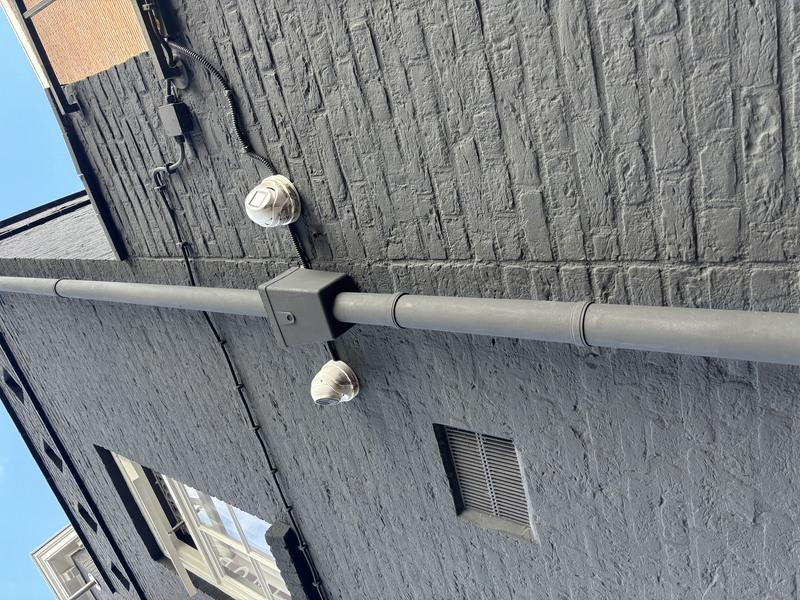turret: (361, 241, 435, 308), (184, 292, 244, 361)
